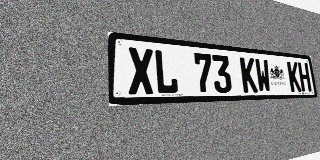3: (212, 54, 232, 93)
7: (192, 53, 214, 93)
H: (298, 62, 312, 92)
K: (240, 57, 258, 93), (287, 61, 301, 92)
L: (153, 49, 179, 94)
W: (254, 58, 272, 92)
X: (127, 47, 155, 95)
